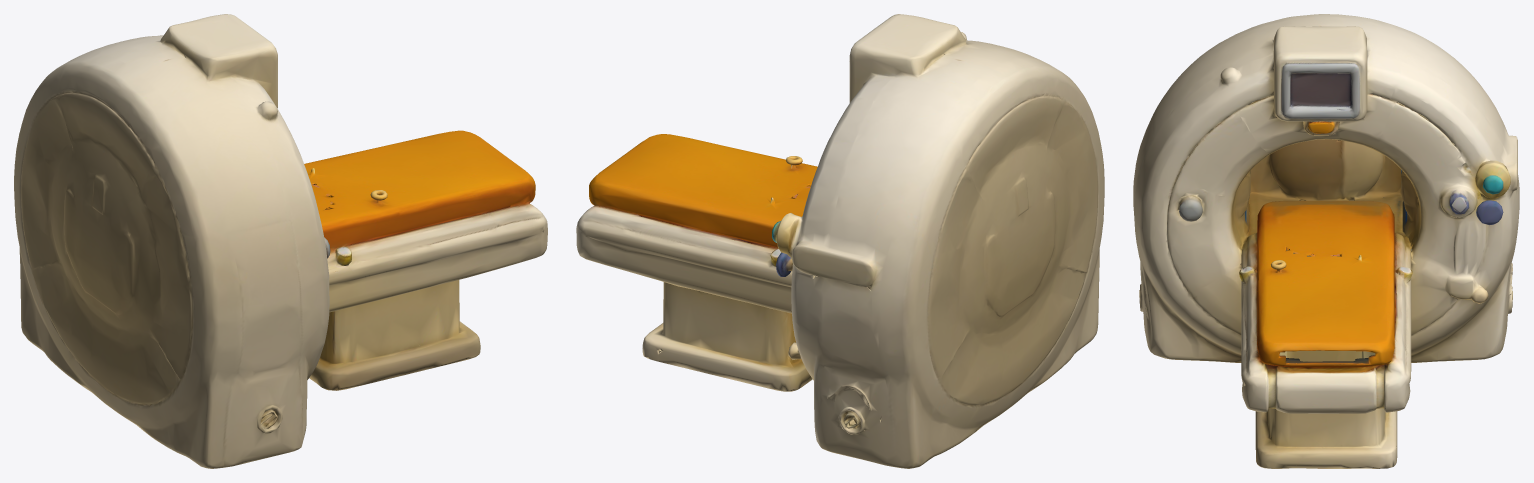
The model's file is scanner.glb.
3 views of the same model, side by side, from view 1: azimuth 30°, elevation 25°; view 2: azimuth 150°, elevation 25°; view 3: azimuth 270°, elevation 25° (orthographic). The views are drawn at different scales.
Parts seen in each view (by area): view 1: tripo_node_5c2828fb-399a-4119-b596-c0816eaca1a1; view 2: tripo_node_5c2828fb-399a-4119-b596-c0816eaca1a1; view 3: tripo_node_5c2828fb-399a-4119-b596-c0816eaca1a1.
Part boxes in pixels (x1,y1,x2,y2): tripo_node_5c2828fb-399a-4119-b596-c0816eaca1a1: (14, 14, 547, 468); tripo_node_5c2828fb-399a-4119-b596-c0816eaca1a1: (576, 14, 1104, 468); tripo_node_5c2828fb-399a-4119-b596-c0816eaca1a1: (1133, 14, 1519, 468).
Size of the model in its own units: 1 by 0.807 by 0.8699.
1 material, 1 textured.
